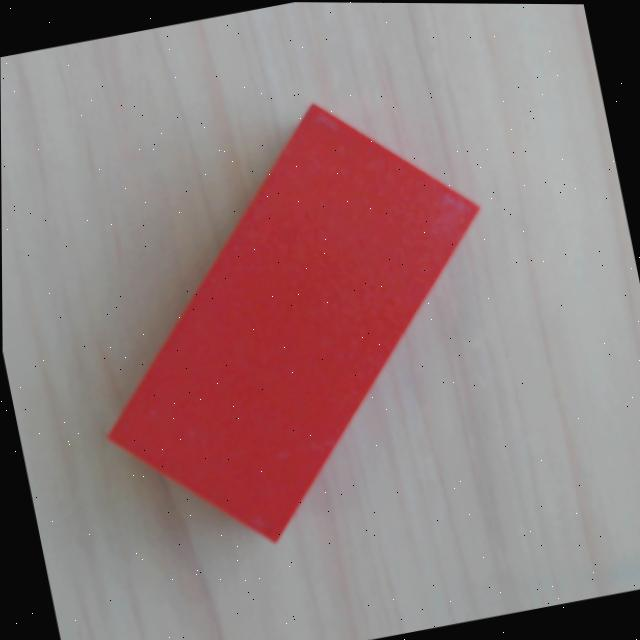Balok-Merah-1005025: (107, 101, 481, 541)
